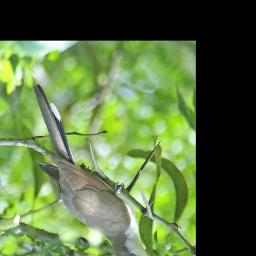Cuckoo: (33, 84, 161, 256)
